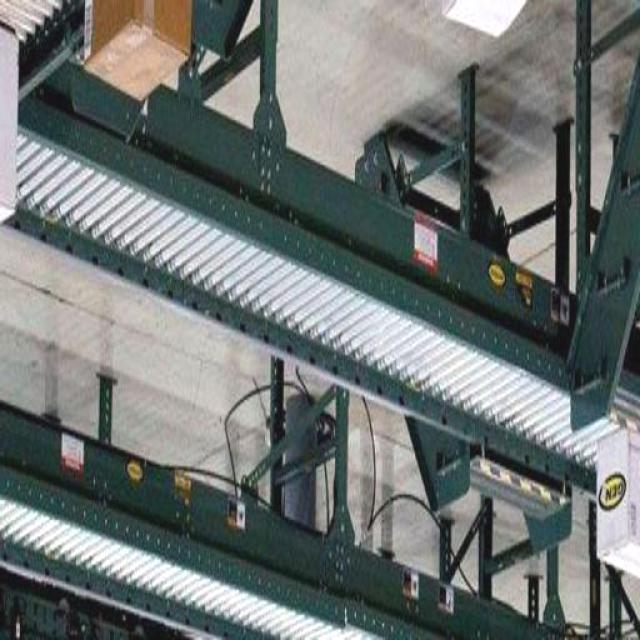conveyor: (2, 125, 637, 497)
